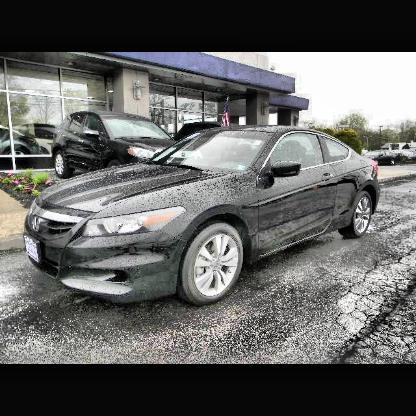Honda Accord Coupe 2012: (25, 125, 379, 307)
